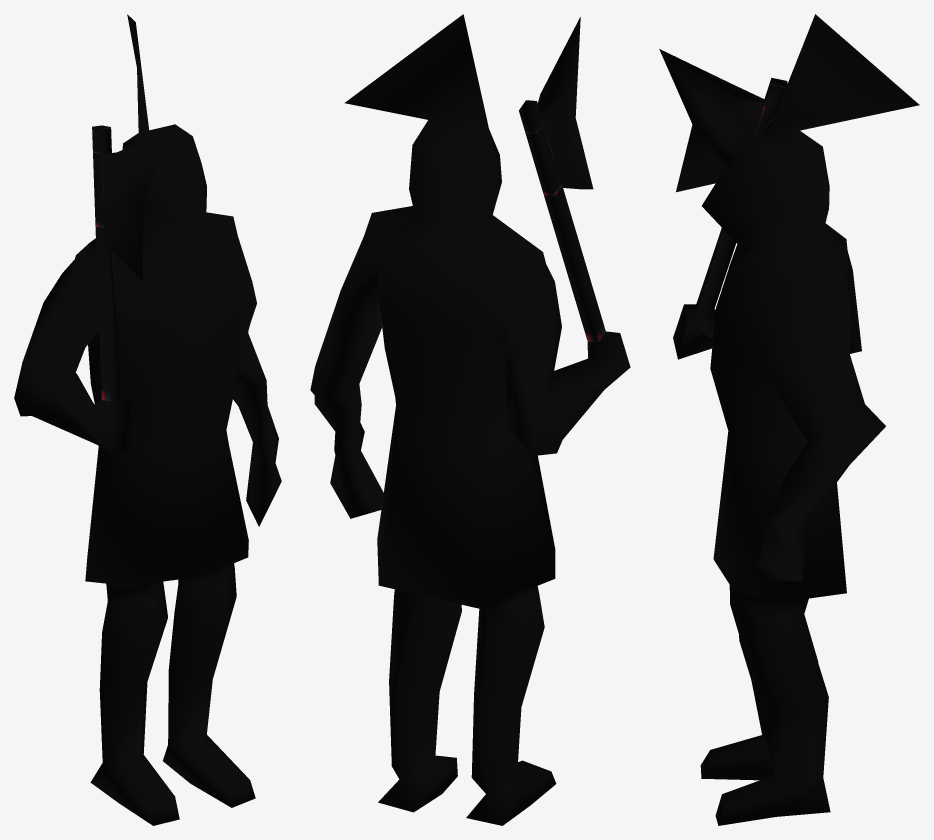
The picture shows the model from 3 angles, left to right: view 1: azimuth 30°, elevation 25°; view 2: azimuth 150°, elevation 25°; view 3: azimuth 270°, elevation 25°; orthographic projection. The views are drawn at different scales.
Parts seen in each view (by area): view 1: T1L4M007_0; view 2: T1L4M007_0; view 3: T1L4M007_0.
Boxes of the visible parts, x1=… form: T1L4M007_0: x1=14, y1=14, x2=281, y2=825; T1L4M007_0: x1=310, y1=14, x2=630, y2=825; T1L4M007_0: x1=659, y1=14, x2=919, y2=825.
Bounding box in the file's own units: 0.9165 × 2.89 × 0.8804.
